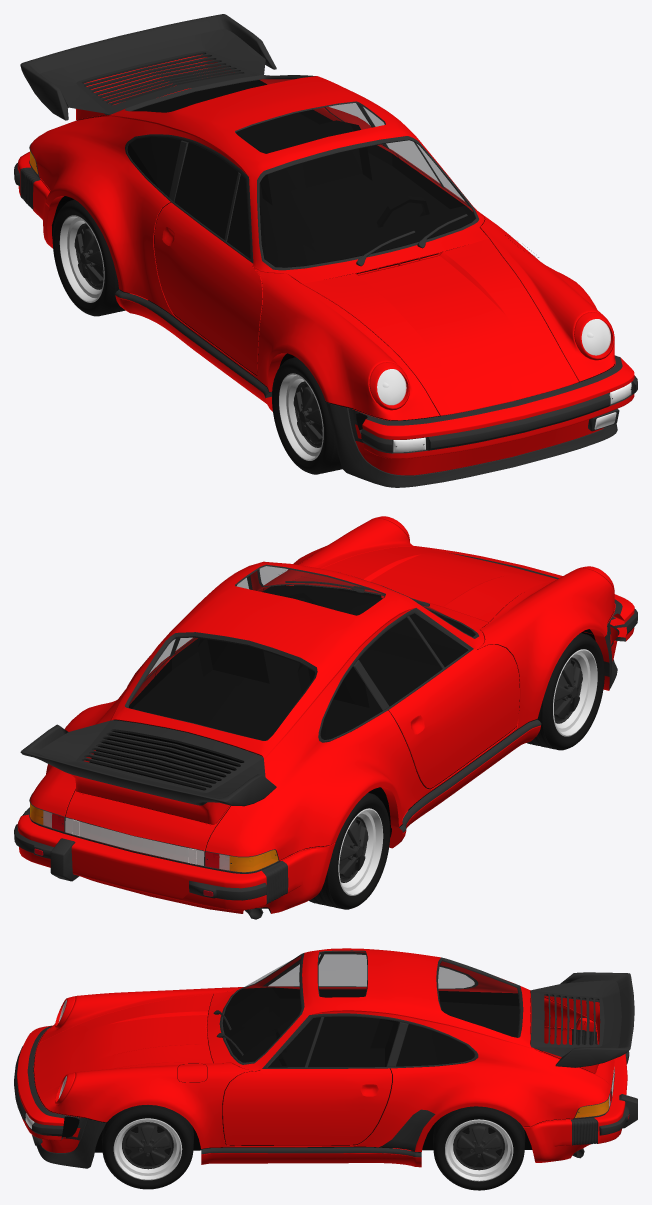
File: car.gltf
3 views of the same model, one above another, from view 1: azimuth 30°, elevation 25°; view 2: azimuth 150°, elevation 25°; view 3: azimuth 270°, elevation 25° (orthographic). The views are drawn at different scales.
Parts seen in each view (by area): view 1: body_final, Car.003, Car.006, Cube.005, Circle.002, Circle.004, Car.011, Car.001, Car.005, Car.004; view 2: body_final, Car.006, Car.003, Cube.005, Circle.002, Circle.004, Car.007, Car.005, Car.008, Cube.003; view 3: body_final, Car.006, Car.003, Cube.005, Circle.003, Circle.001, Car.005, Cube.002, Car.008, Cube.003.
Boxes of the visible parts, x1,y1,x2,y2 form: body_final: (17, 54, 634, 475); Car.003: (14, 14, 637, 487); Car.006: (128, 78, 475, 267); Cube.005: (127, 80, 475, 267); Circle.002: (272, 357, 342, 474); Circle.004: (52, 199, 125, 316); Car.011: (377, 319, 610, 405); Car.001: (377, 319, 609, 404); Car.005: (40, 115, 614, 429); Car.004: (393, 382, 631, 452); body_final: (17, 516, 634, 913); Car.006: (129, 565, 475, 740); Car.003: (14, 553, 637, 904); Cube.005: (95, 585, 475, 780); Circle.002: (527, 633, 604, 750); Circle.004: (309, 792, 390, 909); Car.007: (65, 817, 204, 865); Car.005: (65, 585, 614, 913); Car.008: (30, 803, 278, 872); Cube.003: (50, 838, 79, 881); body_final: (17, 948, 627, 1167); Car.006: (222, 951, 519, 1067); Car.003: (14, 950, 634, 1168); Cube.005: (222, 987, 519, 1067); Circle.003: (433, 1106, 525, 1190); Circle.001: (101, 1105, 193, 1189); Car.005: (33, 991, 594, 1152); Cube.002: (379, 1109, 435, 1151); Car.008: (575, 1018, 608, 1117); Cube.003: (619, 1094, 637, 1128).
Bounding box in the file's own units: 117 × 85.07 × 285.
